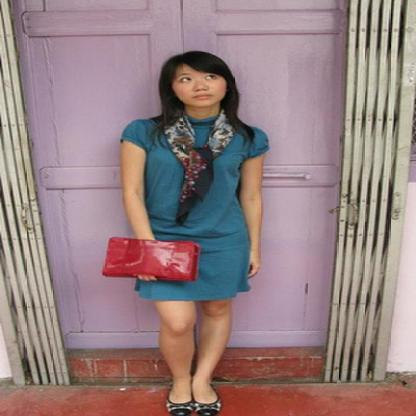bag: (102, 237, 199, 281)
dress: (121, 116, 268, 300)
shoe: (162, 391, 219, 415)
